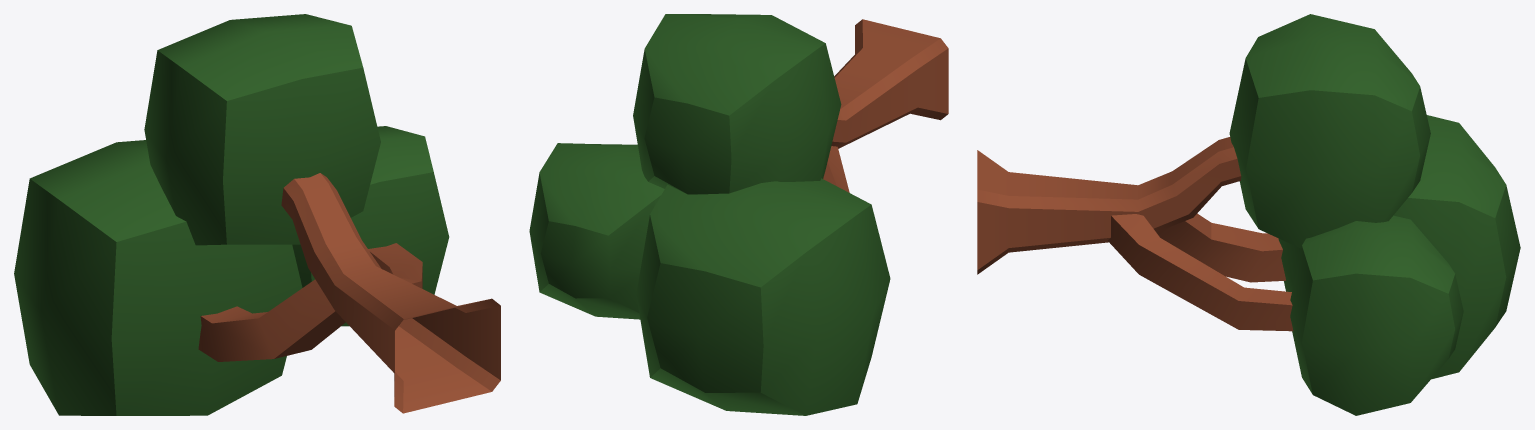
Rendered from Tree 01.FBX.
The picture shows the model from 3 angles, left to right: view 1: azimuth 30°, elevation 25°; view 2: azimuth 150°, elevation 25°; view 3: azimuth 270°, elevation 25°; orthographic projection. The views are drawn at different scales.
Parts seen in each view (by area): view 1: Tree 01; view 2: Tree 01; view 3: Tree 01.
Boxes of the visible parts, x1=… form: Tree 01: x1=14, y1=14, x2=500, y2=415; Tree 01: x1=529, y1=14, x2=948, y2=415; Tree 01: x1=977, y1=14, x2=1520, y2=415.
Size of the model in its own units: 317 by 306 by 424.
Materials: 1 (1 with a texture image).
